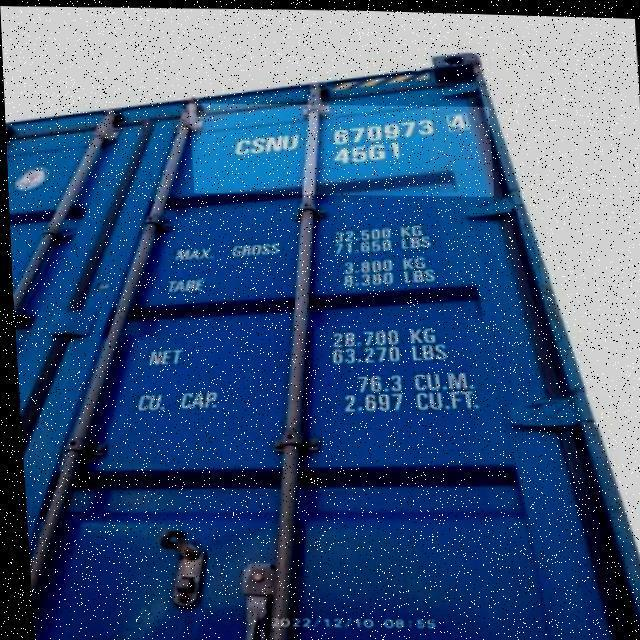container_number_h: (188, 96, 492, 198)
